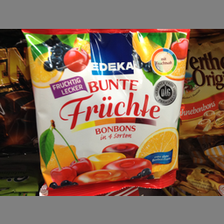candy: (23, 30, 190, 195)
